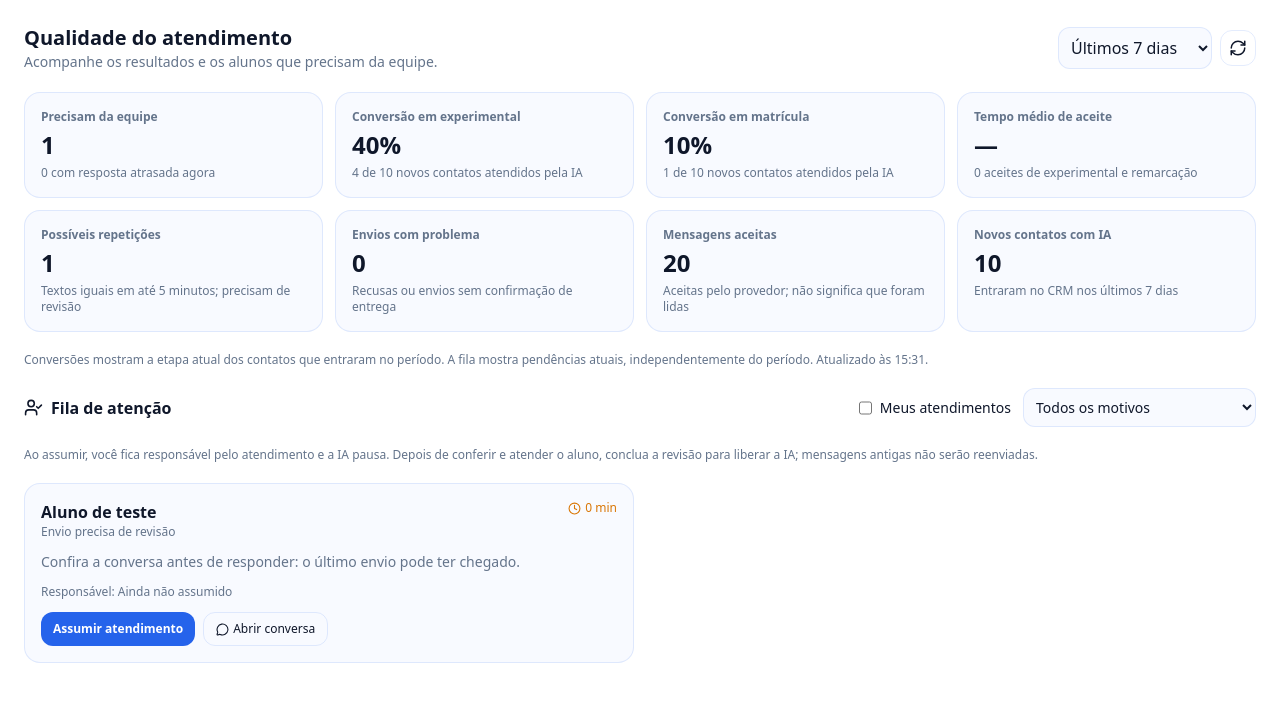
Test: Qualidade da IA › shows ownership races without pretending the case was taken
Click the button "Assumir atendimento". click: [118, 629]
box: [41,612,195,646]
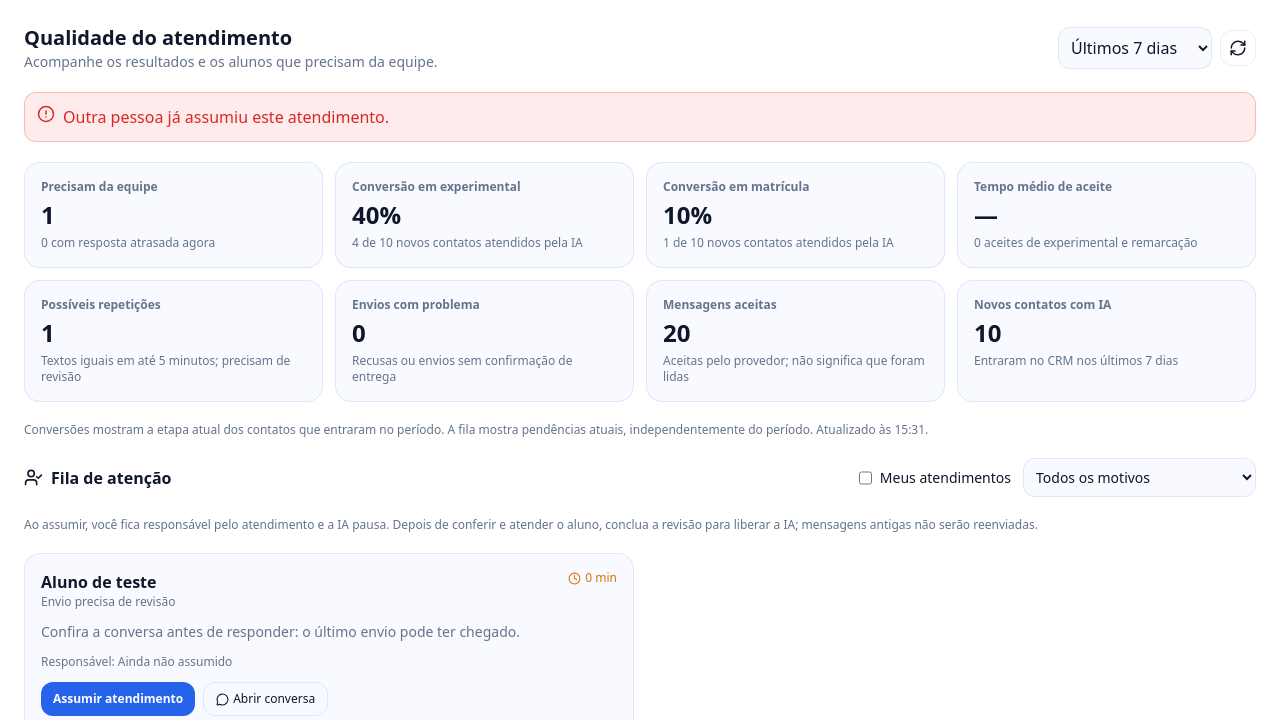
Now the message shows "Outra pessoa já assumiu", box [63,106,389,128]
